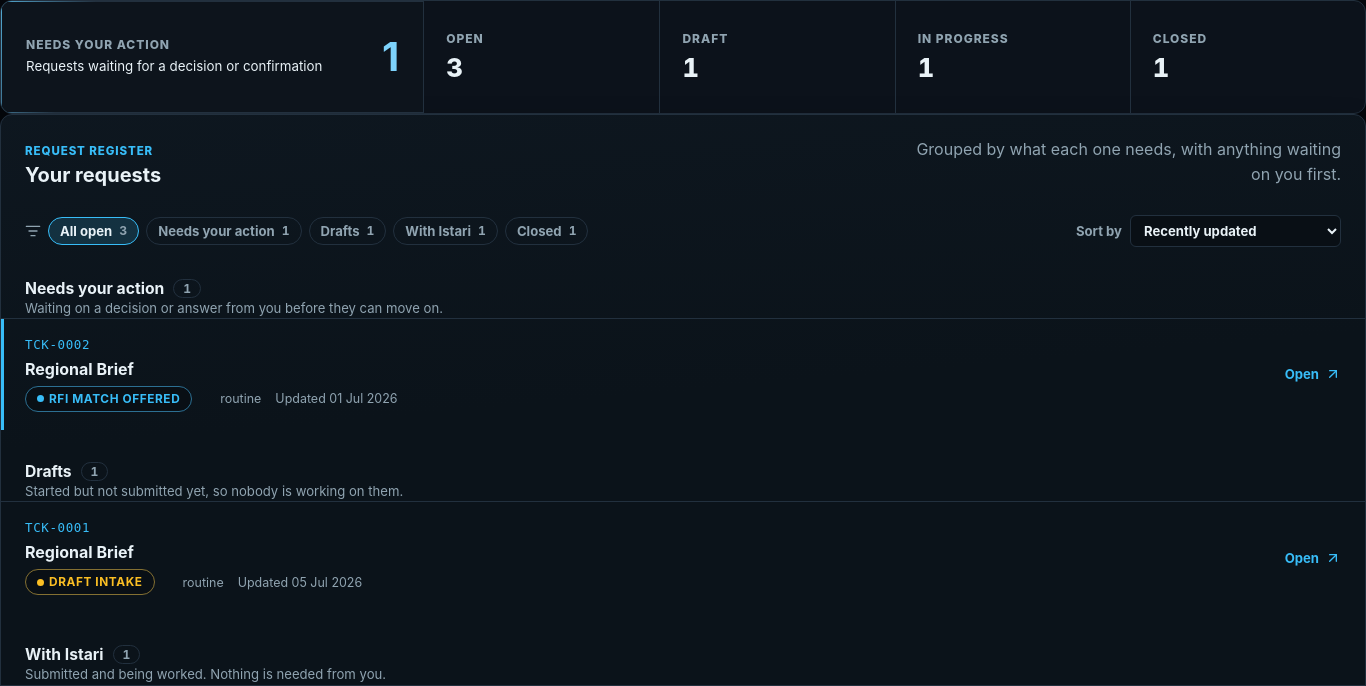
Scenario: choosing a category shows it as one flat list without the archive
Click the button "Needs your action 1": coordinates (224, 231) [146, 217, 302, 245]
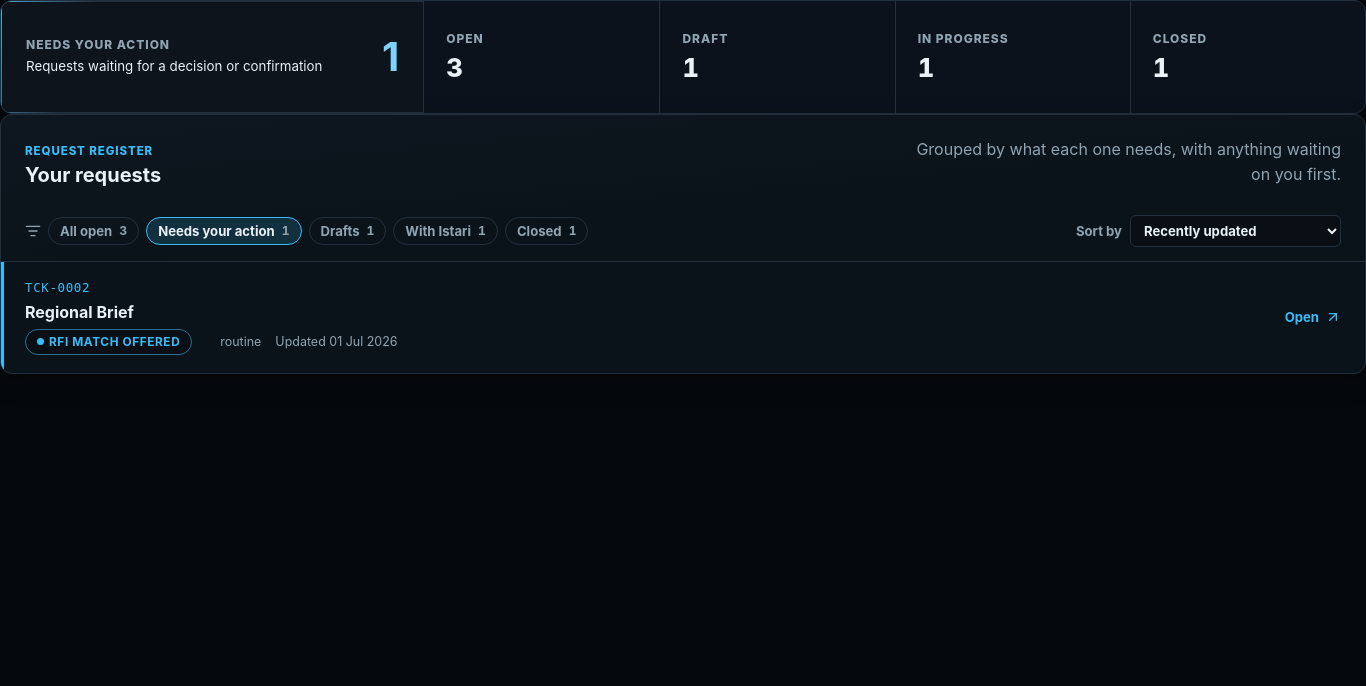
expect the button "TCK-0002" is shown: met, box [1, 262, 1365, 373]
expect the button "TCK-0001" is gone: met
